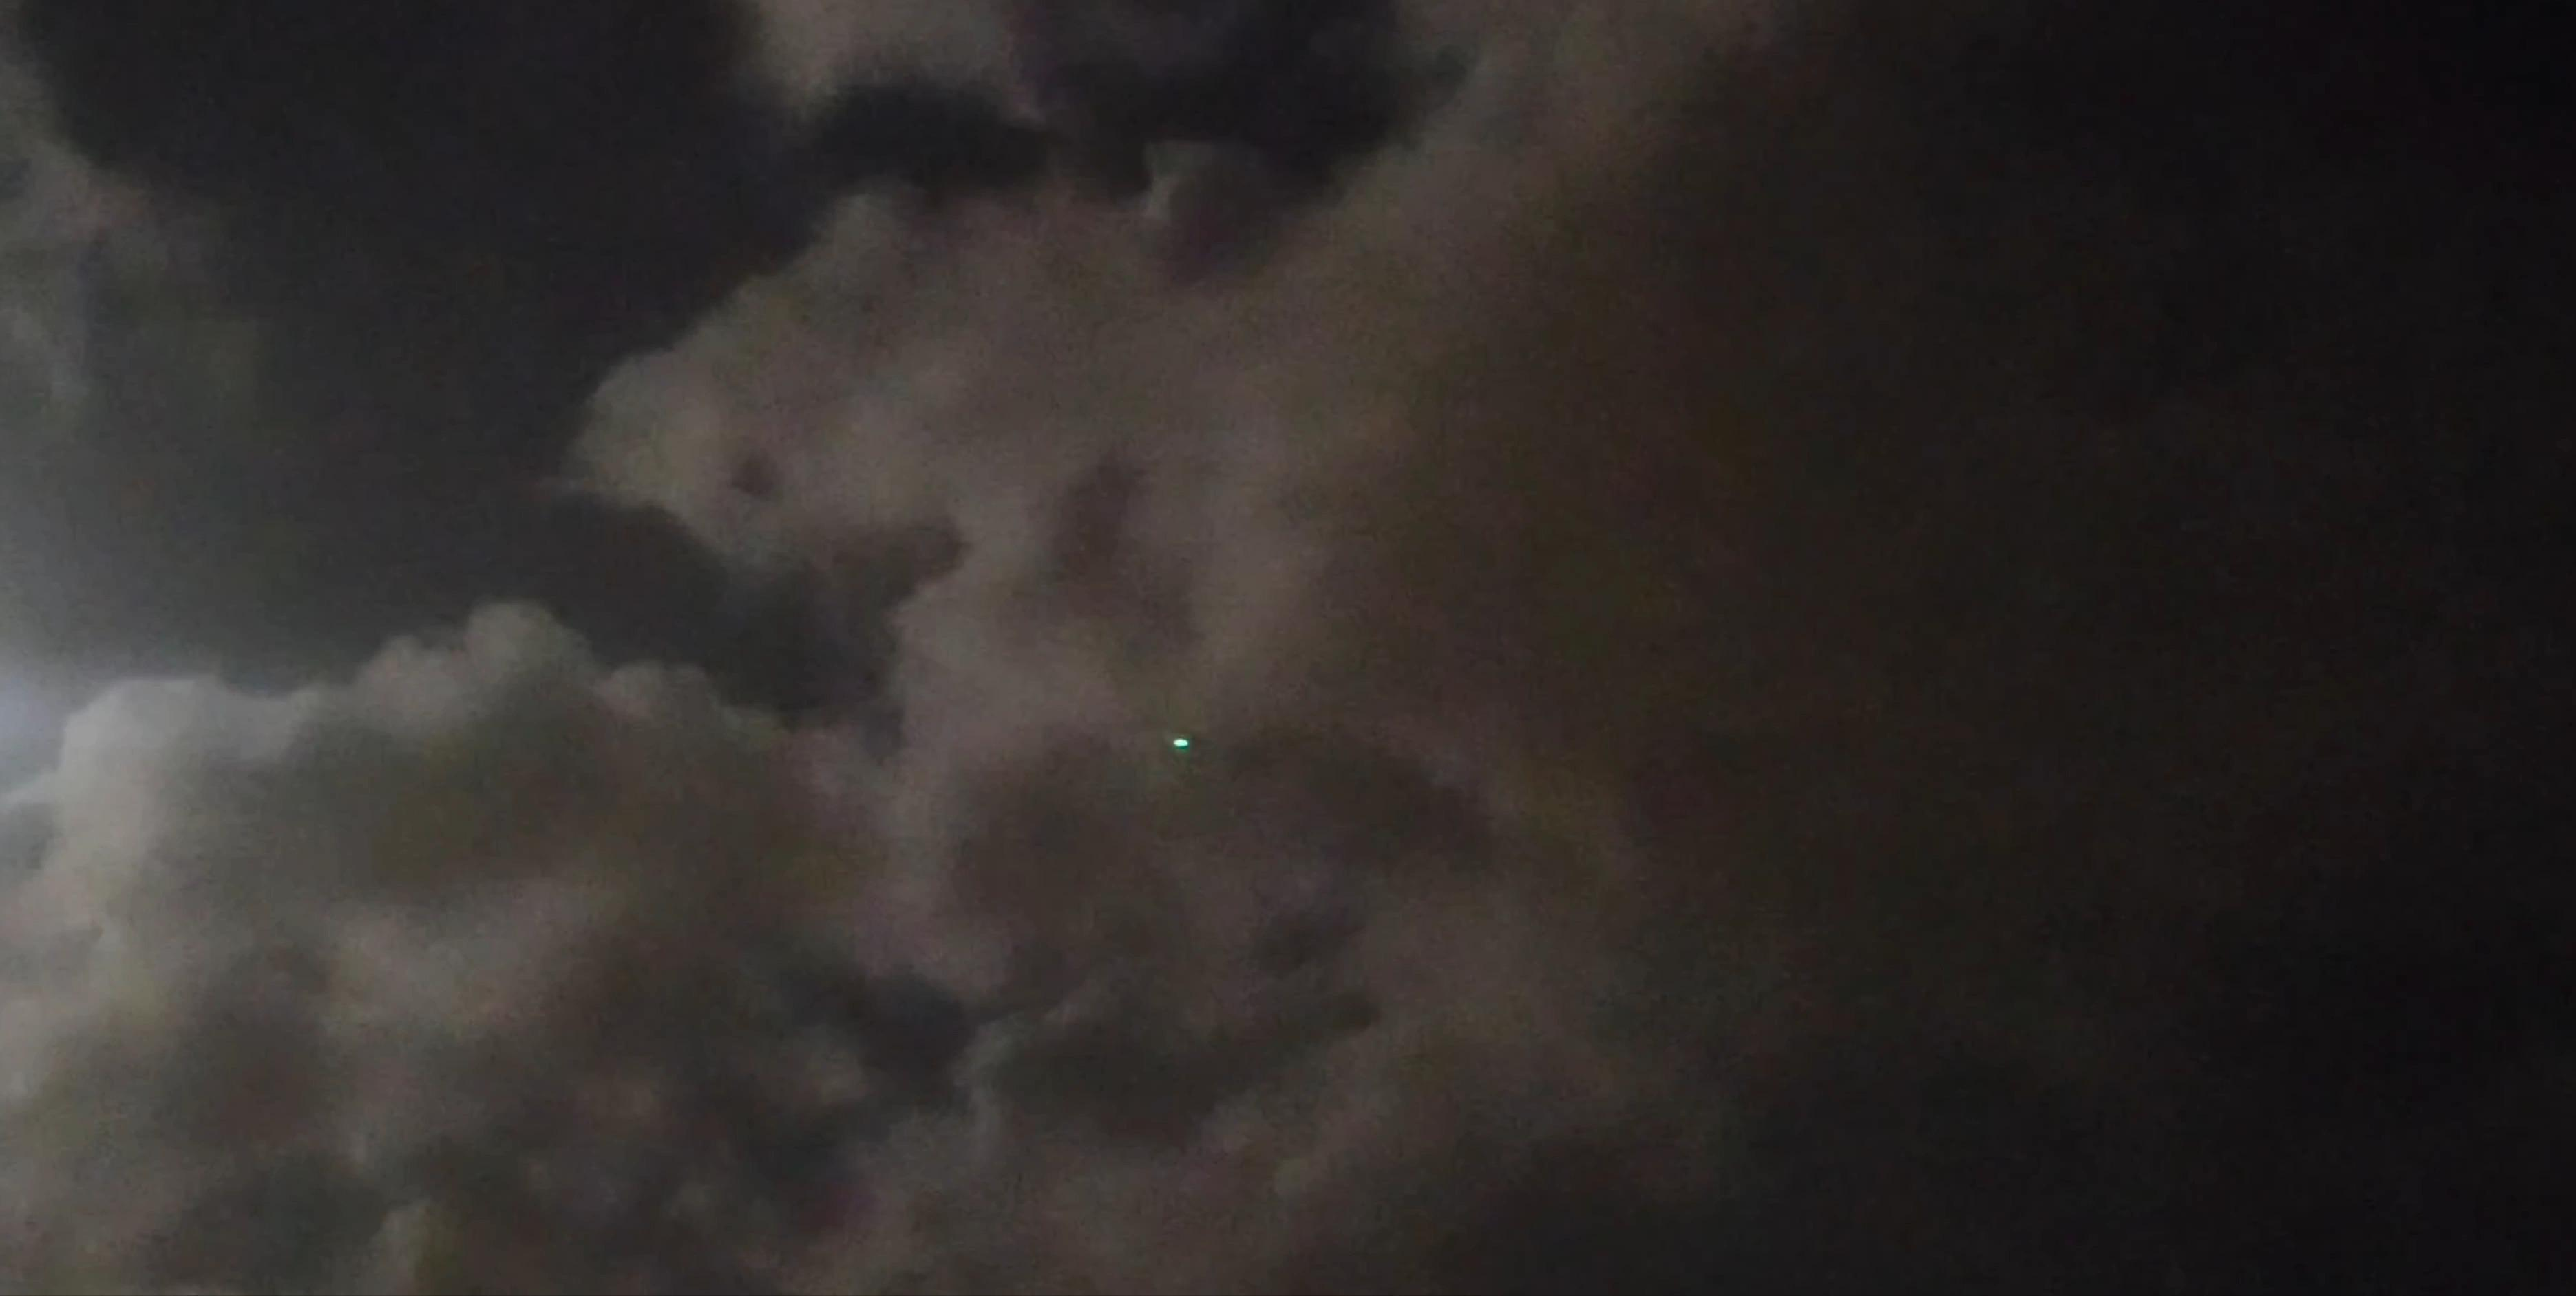Plane: (1160, 727, 1216, 767)
